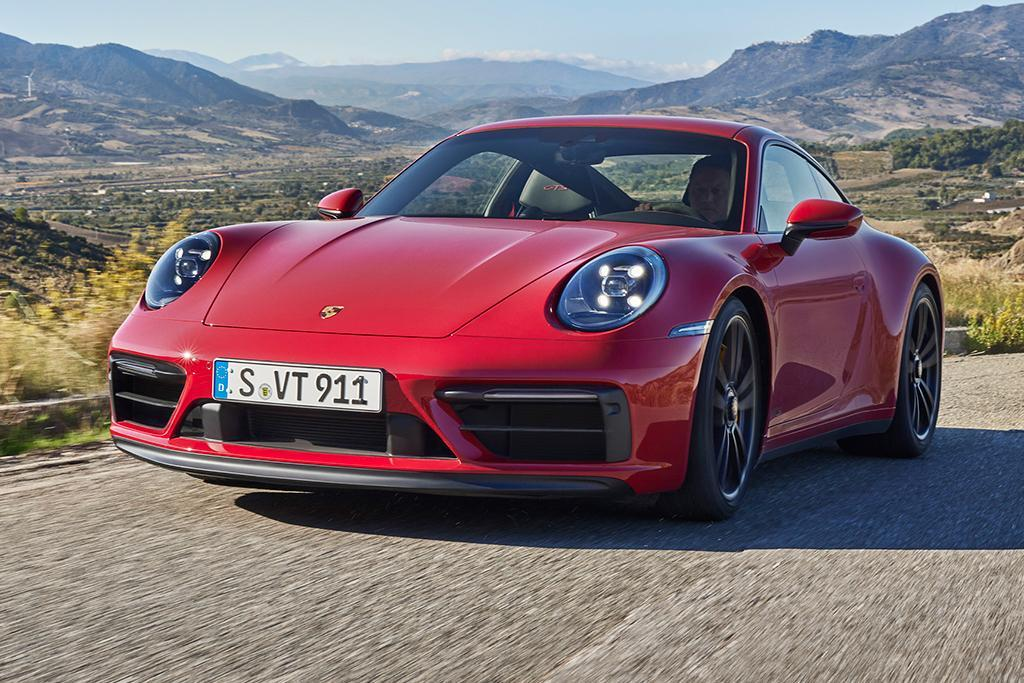porsche: (313, 299, 350, 327)
